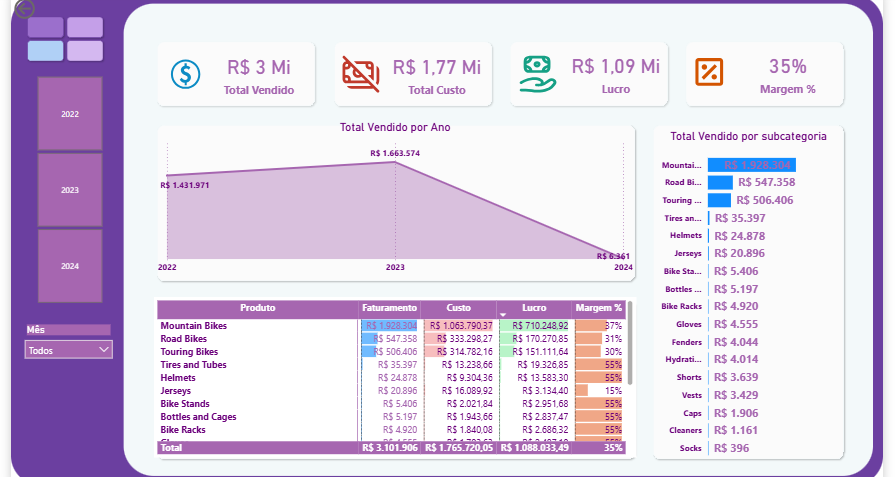

The dashboard page shown, as its layout file describes it:
{"tool":"powerbi","page":{"name":"Página 1","canvas":[1280,720],"ordinal":0},"visuals":[{"type":"areaChart","fields":{"Category":["dCalendario.Data.Variation.Hierarquia de datas.Ano","dCalendario.Data.Variation.Hierarquia de datas.Mês","dCalendario.Data.Variation.Hierarquia de datas.Dia"],"Y":["Medidas.Total Vendido"]},"box":[210,184.3,708.6,234.3],"z":0},{"type":"barChart","fields":{"Category":["dProdutos.subcategoria"],"Y":["Medidas.Total Vendido"]},"box":[938.3,196.7,290,495],"z":1000},{"type":"card","fields":{"Values":["Medidas.Lucro"]},"box":[807.1,65.7,164.3,94.3],"z":2000},{"type":"card","fields":{"Values":["Medidas.Total Vendido"]},"box":[280,68.6,167.1,91.4],"z":3000},{"type":"card","fields":{"Values":["Medidas.Total Custo"]},"box":[547.1,68.6,158.6,91.4],"z":4000},{"type":"card","fields":{"Values":["Medidas.Margem %"]},"box":[1052.9,65.7,175.7,94.3],"z":5000},{"type":"pivotTable","fields":{"Rows":["dProdutos.subcategoria"],"Values":["Medidas.Total Vendido","Medidas.Total Custo","Medidas.Lucro","Medidas.Margem %"]},"box":[210,444.3,708.6,235.7],"z":6000},{"type":"actionButton","box":[0,0,100,40],"z":7000},{"type":"slicer","fields":{"Values":["dCalendario.Ano"]},"box":[13,113,144.9,346.4],"z":8000},{"type":"slicer","fields":{"Values":["dCalendario.Nome do Mês"]},"box":[10.1,479.7,149.3,101.4],"z":9000}]}

Visuals, with their boxes on the page's 1280x720 design canvas (x1, y1, x2, y2). These are canvas units, not pixel positions in the 896x477 screenshot, which may show the page scaled, cropped or inside an application window:
areaChart - dCalendario.Data.Variation.Hierarquia de datas.Ano x dCalendario.Data.Variation.Hierarquia de datas.Mês: <bbox>210, 184, 919, 419</bbox>
barChart - dProdutos.subcategoria x Medidas.Total Vendido: <bbox>938, 197, 1228, 692</bbox>
card - Medidas.Lucro: <bbox>807, 66, 971, 160</bbox>
card - Medidas.Total Vendido: <bbox>280, 69, 447, 160</bbox>
card - Medidas.Total Custo: <bbox>547, 69, 706, 160</bbox>
card - Medidas.Margem %: <bbox>1053, 66, 1229, 160</bbox>
pivotTable - dProdutos.subcategoria x Medidas.Total Vendido: <bbox>210, 444, 919, 680</bbox>
actionButton: <bbox>0, 0, 100, 40</bbox>
slicer - dCalendario.Ano: <bbox>13, 113, 158, 459</bbox>
slicer - dCalendario.Nome do Mês: <bbox>10, 480, 159, 581</bbox>
